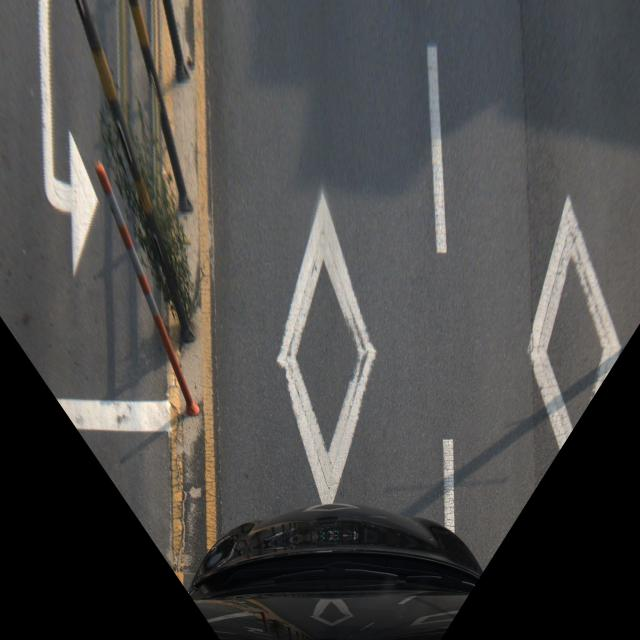diamond: (197, 44, 458, 509)
